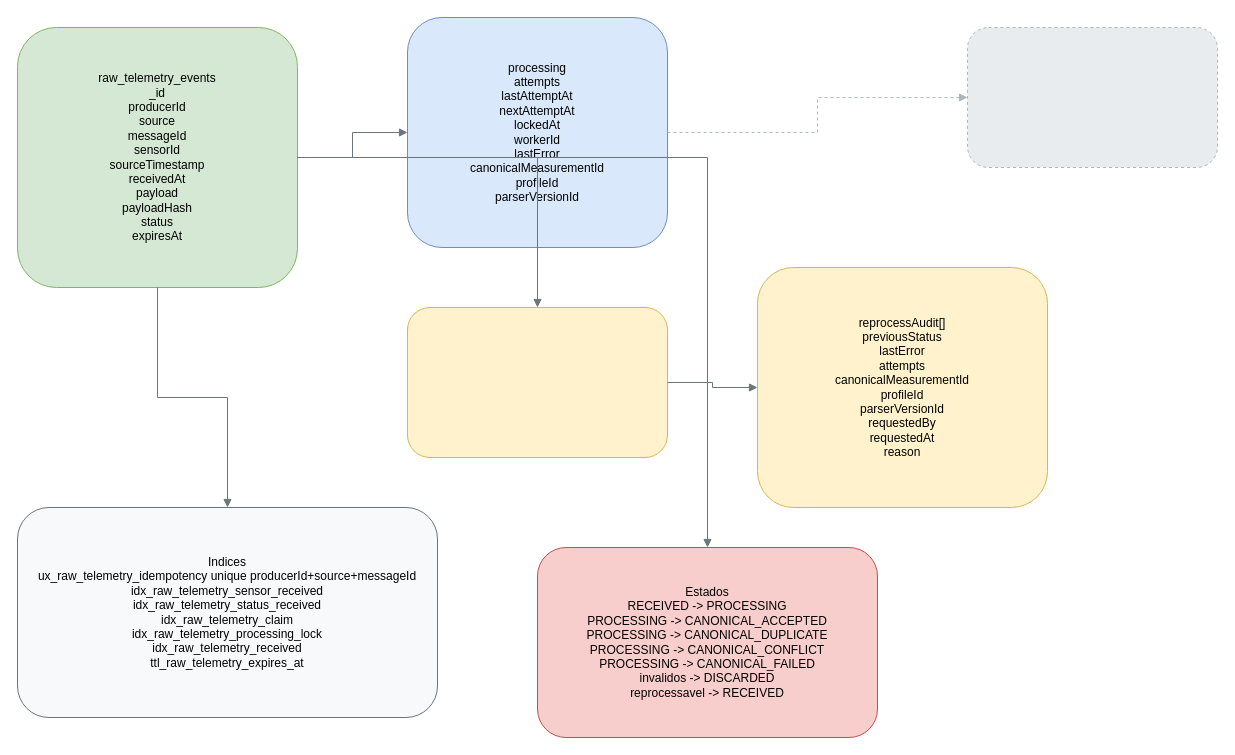
The diagram is 1235 pixels wide and 755 high, and some of its shapes have lost their labels. The shapes that lost their labels are listed below. From the top down, each one's centre as x and y in pixels, then its label:
the point at 1092,97: Ligacao logica PostgreSQL medicao medicao_ingestao_metadata sem FK fisica
the point at 537,382: reprocessing count lastRequestedAt lastRequestedBy lastReason
